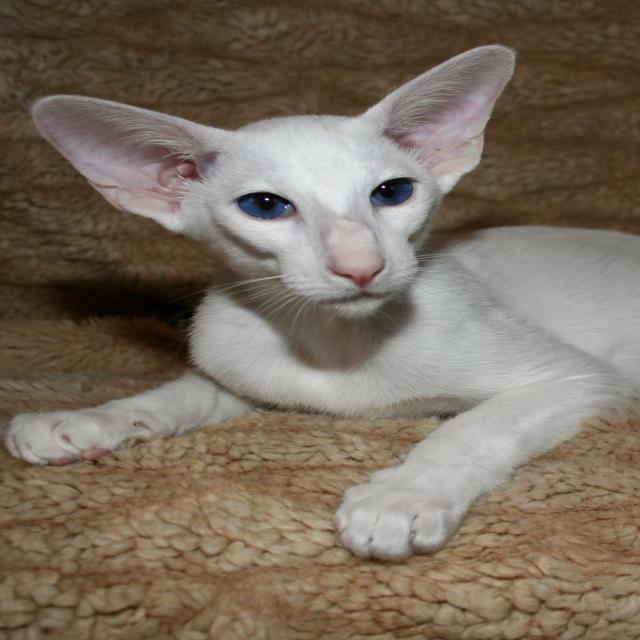Oriental: (1, 43, 640, 566)
